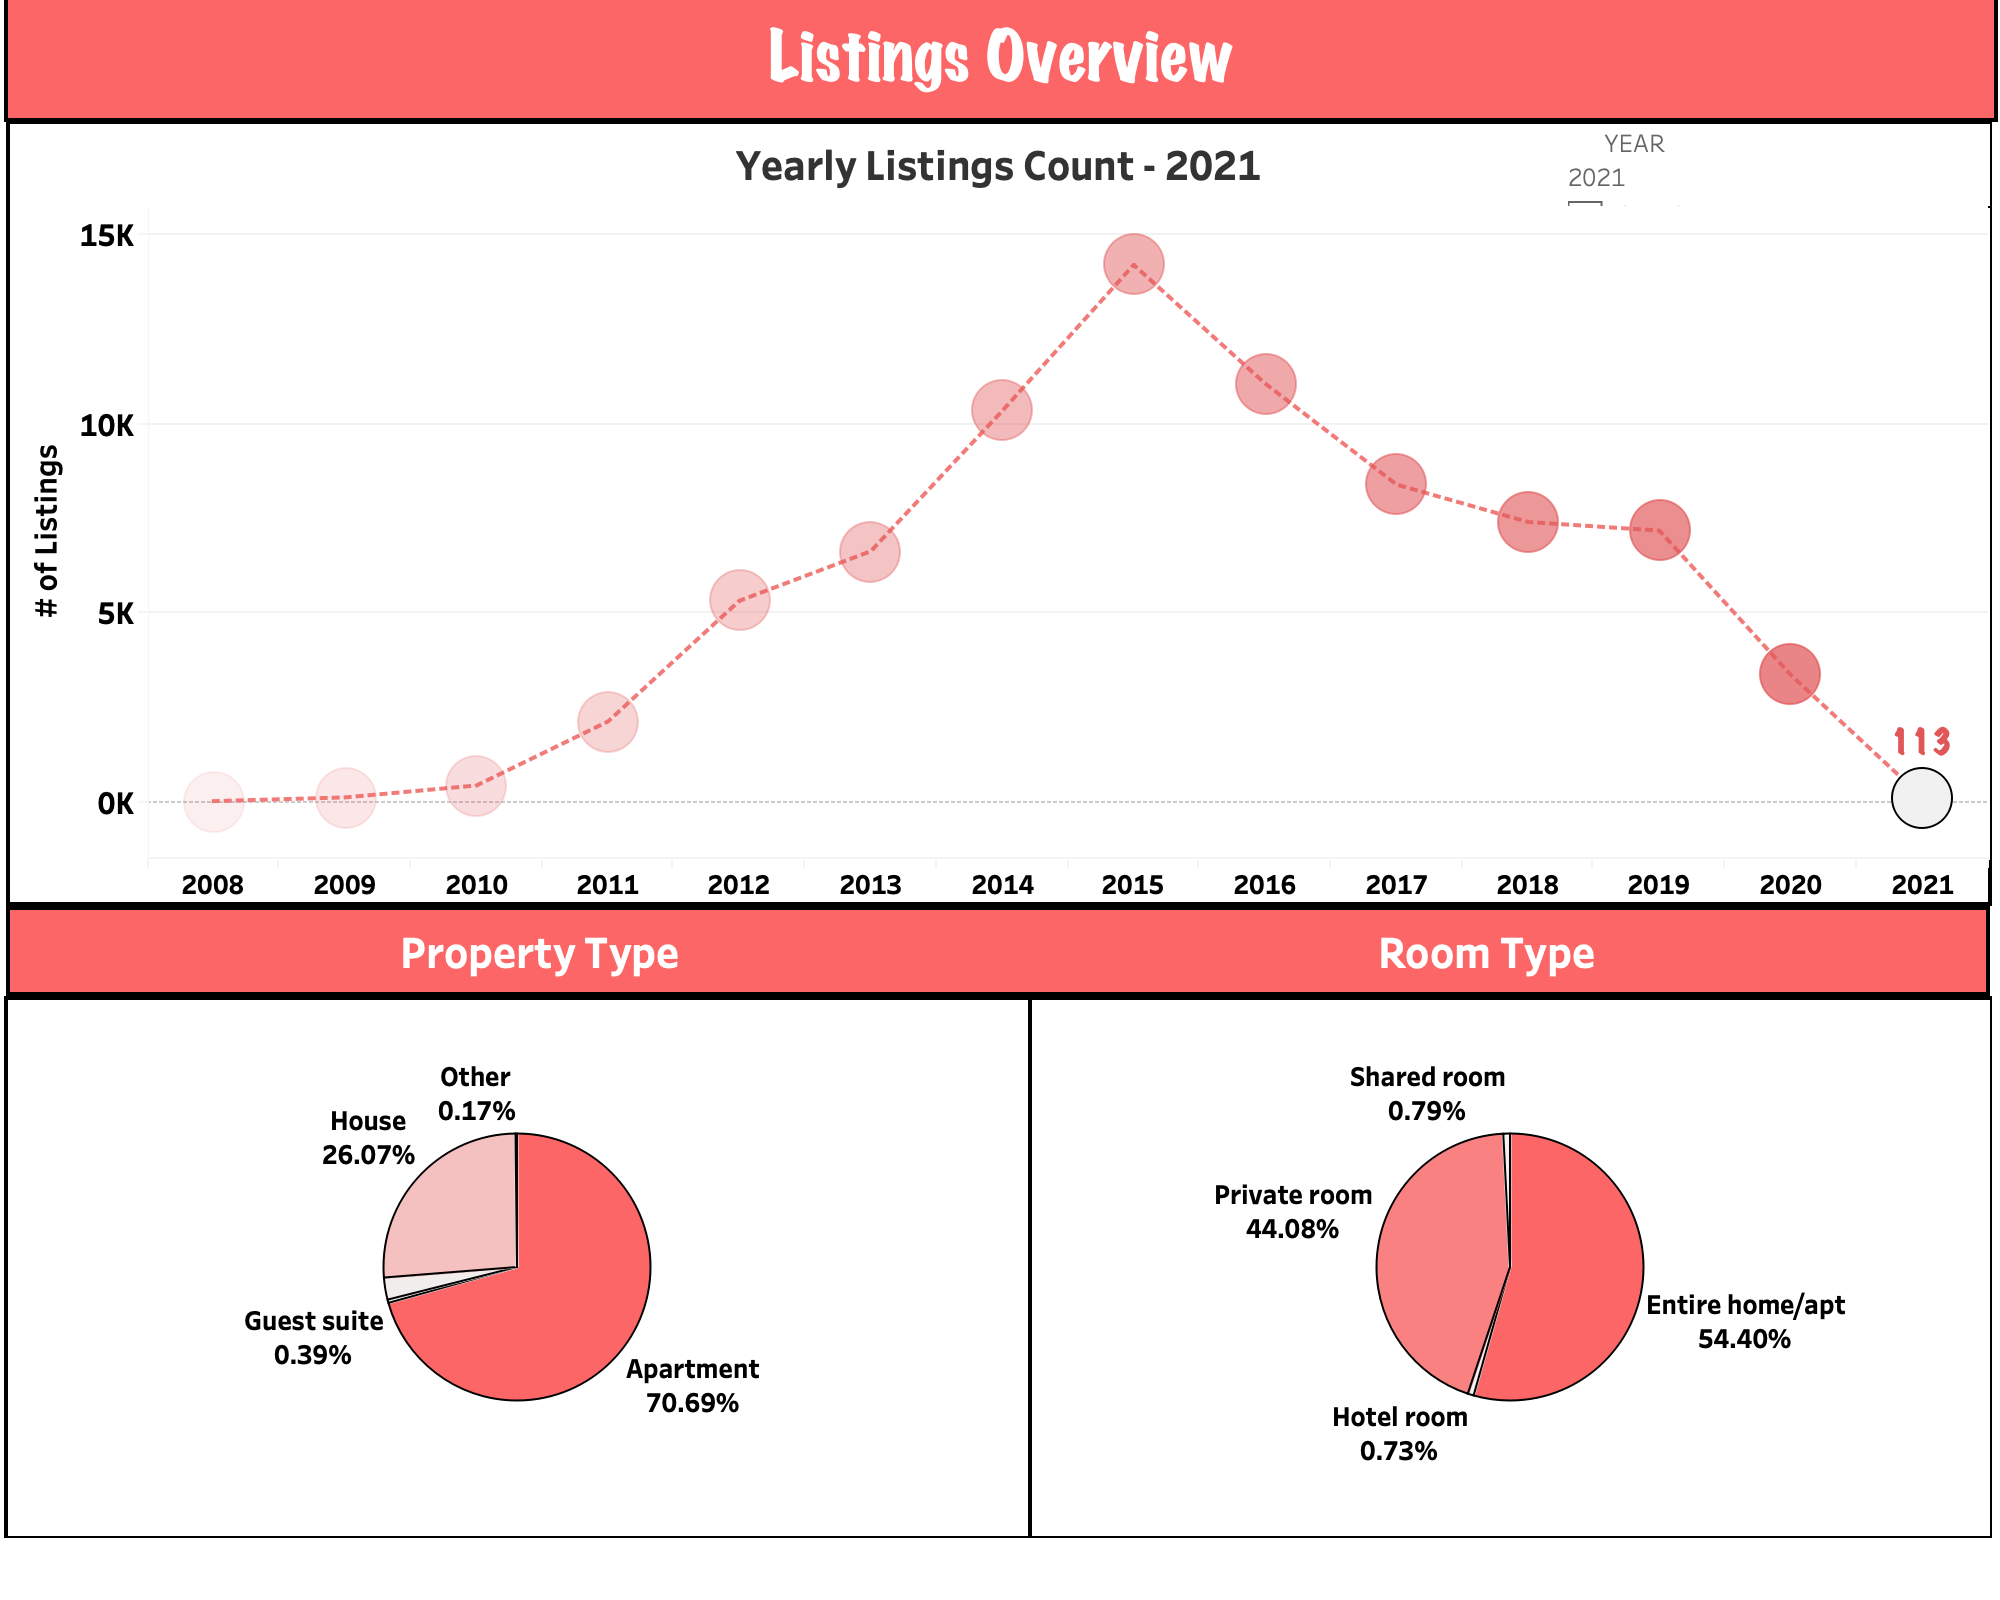

Layout of this report page (visuals, bound fields, positions):
{"tool":"tableau","page":{"name":"Listing Overview","canvas":[1000,800],"ordinal":3},"visuals":[{"type":"worksheet","param":"/Users/saranyapandiaraj/Desktop/SJSU/Semester 2/Data 230 - Data Visualization/As","box":[9,0,59,59]},{"type":"worksheet","param":"/Users/saranyapandiaraj/Desktop/SJSU/Semester 2/Data 230 - Data Visualization/As","box":[937,0,59,59]},{"type":"worksheet","title":"Listings Count","mark":"Circle","rows":["Listings_cleaned.csv_A59D7622A7544401A31AFA732F3553D3"],"cols":["host_since"],"box":[3,60,993,393]},{"type":"worksheet","title":"Listings Count","mark":"Circle","rows":["Listings_cleaned.csv_A59D7622A7544401A31AFA732F3553D3"],"cols":["host_since"],"box":[784,62,211,41]},{"type":"worksheet","box":[3,453,992,45]},{"type":"worksheet","title":"Property Type","mark":"Pie","box":[2,498,513,271]},{"type":"worksheet","title":"Room Type","mark":"Pie","box":[514,498,482,271]}]}

Visuals, with their boxes in screenshot pixels (x1, y1, x2, y2), scaled from the page's 1000x800 canvas onto the 2000x1600 screenshot:
worksheet: 18 0 136 118
worksheet: 1874 0 1992 118
"Listings Count" worksheet (Circle marks): 6 120 1992 906
"Listings Count" worksheet (Circle marks): 1568 124 1990 206
worksheet: 6 906 1990 996
"Property Type" worksheet (Pie marks): 4 996 1030 1538
"Room Type" worksheet (Pie marks): 1028 996 1992 1538
